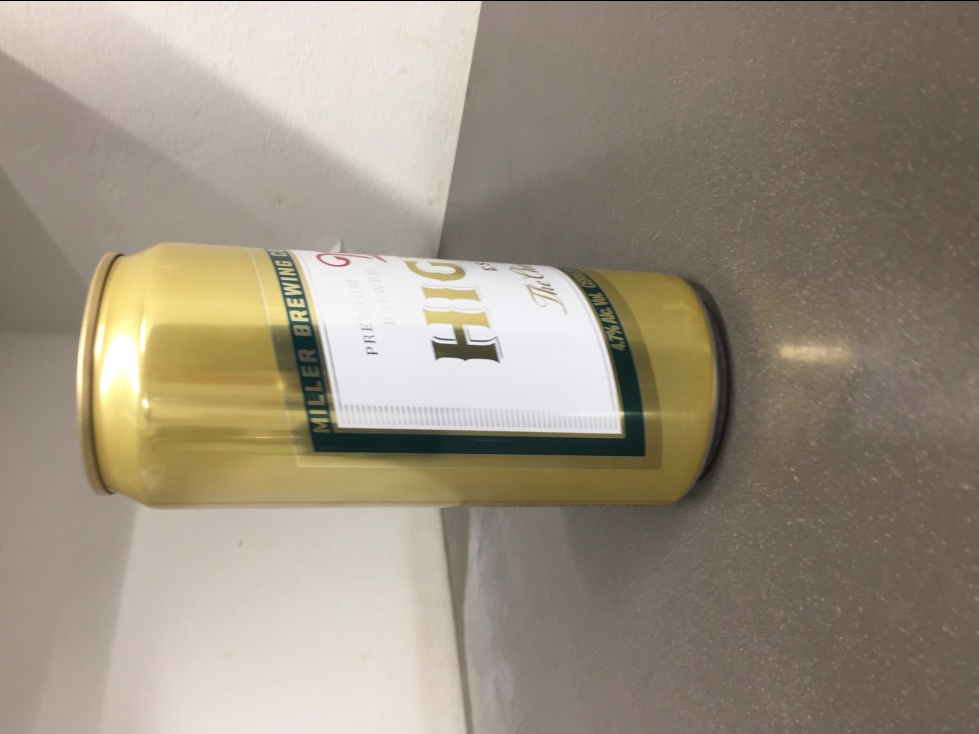miller: (72, 235, 730, 513)
